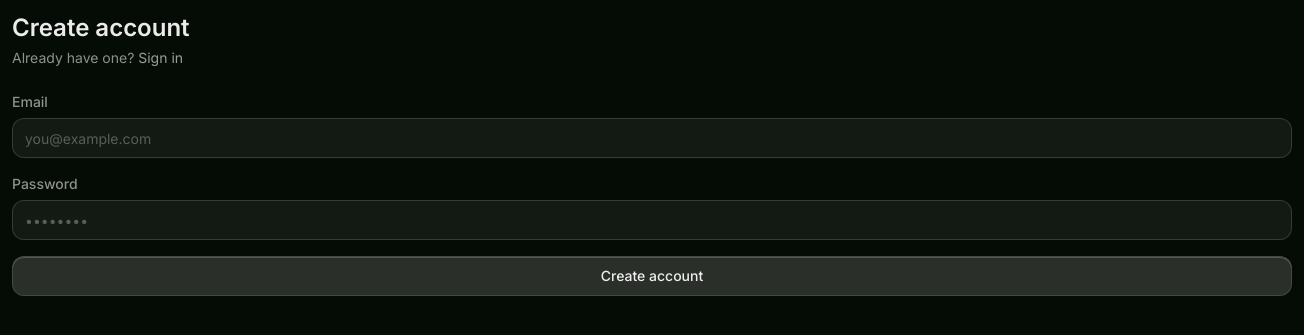
SignupPage › shows a validation error when the password is too short
Type "test@example.com" into the field labelled "Email".
click(652, 138); type("test@example.com")  # box [12, 118, 1292, 158]
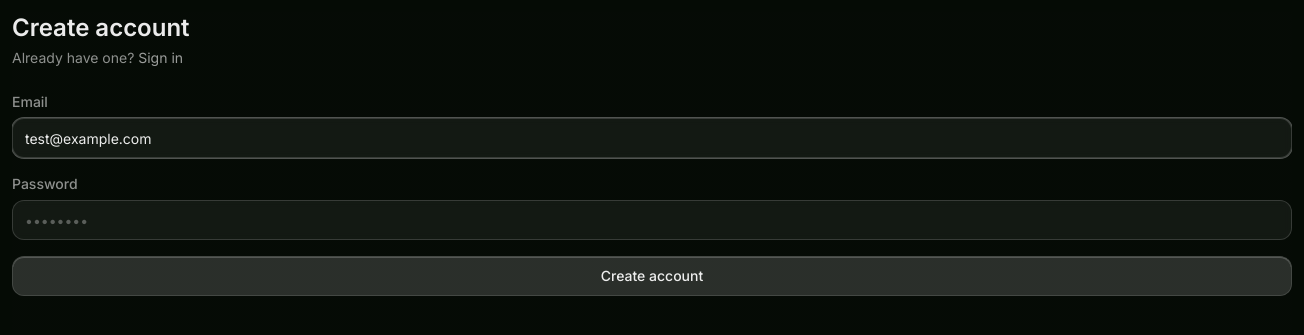
Type "abc" into the password field labelled "Password".
click(652, 220); type("abc")  # box [12, 200, 1292, 240]
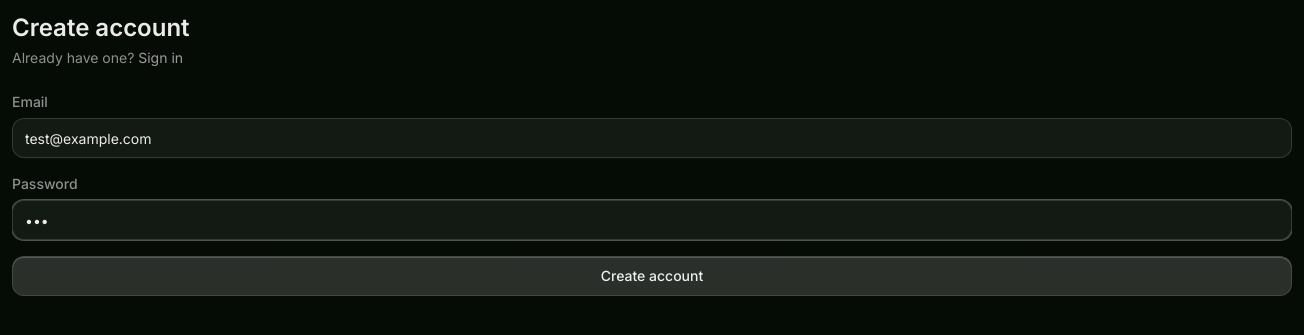
Click the button "Create account".
click(652, 276)  # box [12, 256, 1292, 296]
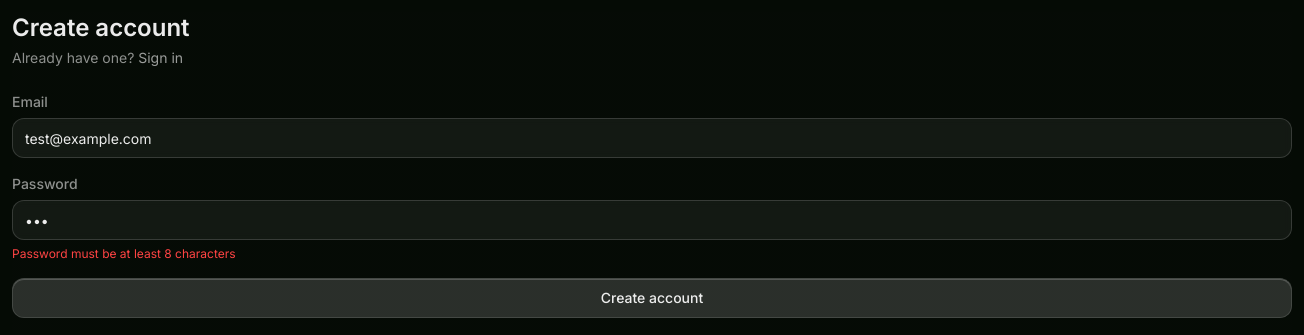
Check: the text "Password must be at least 8 characters" is shown, box [12, 246, 236, 261]
